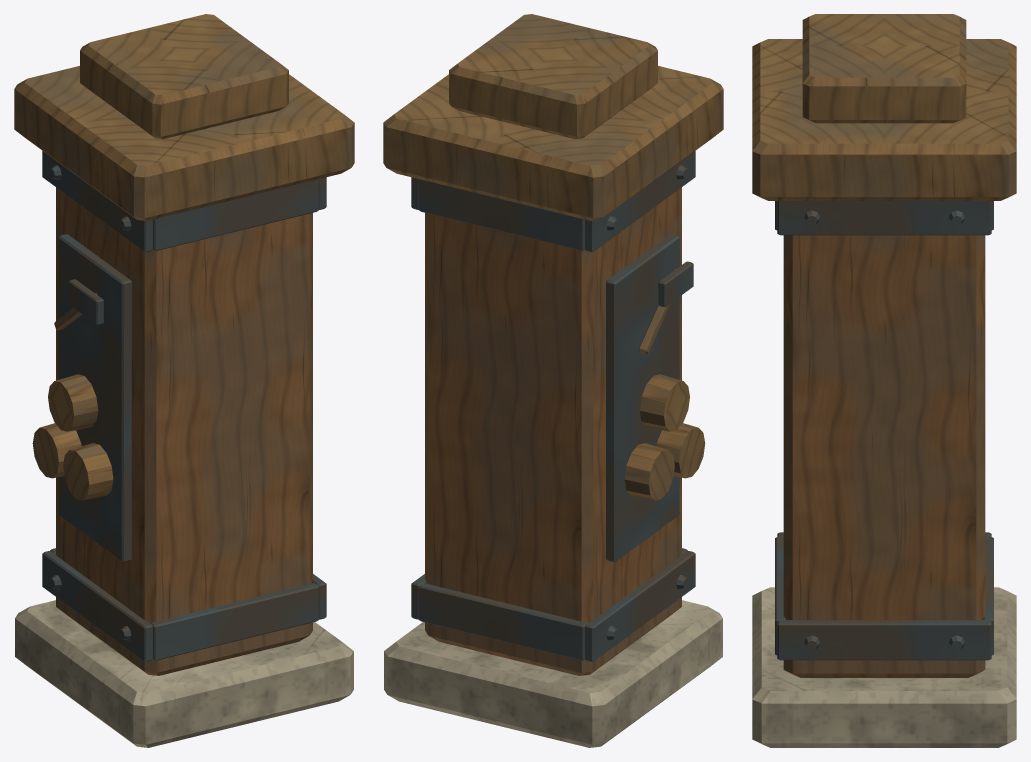
The model's file is b04_pillar_coin.fbx.
3 views of the same model, side by side, from view 1: azimuth 30°, elevation 25°; view 2: azimuth 150°, elevation 25°; view 3: azimuth 270°, elevation 25° (orthographic). The views are drawn at different scales.
Parts seen in each view (by area): view 1: b04_pillar_coin; view 2: b04_pillar_coin; view 3: b04_pillar_coin.
Part boxes in pixels (x1,y1,x2,y2): b04_pillar_coin: [14, 14, 354, 747]; b04_pillar_coin: [383, 14, 723, 747]; b04_pillar_coin: [752, 14, 1016, 747].
Bounding box in the file's own units: 8900 × 8400 × 22800.
